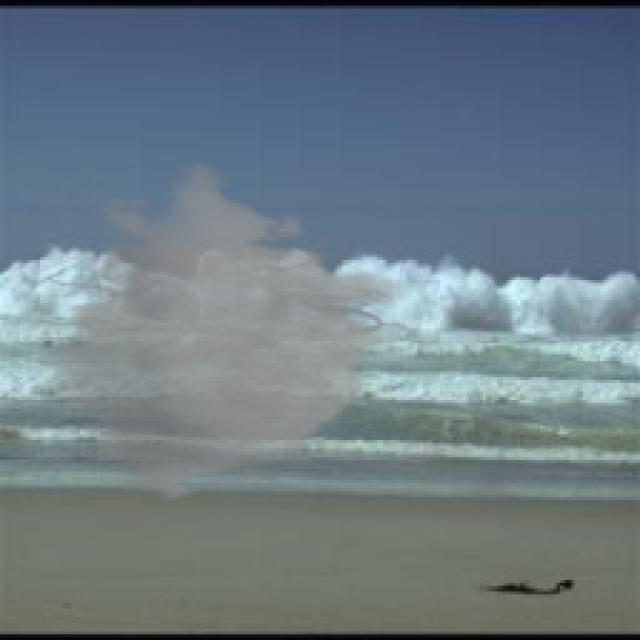smoke: (3, 160, 423, 503)
